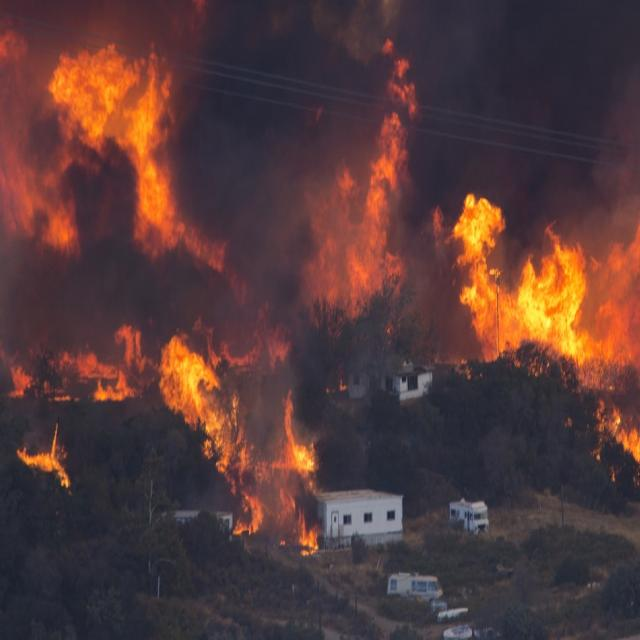Fire: (48, 46, 221, 268), (447, 187, 627, 396), (156, 324, 267, 536), (16, 424, 79, 501)
Smoke: (199, 40, 379, 317)
